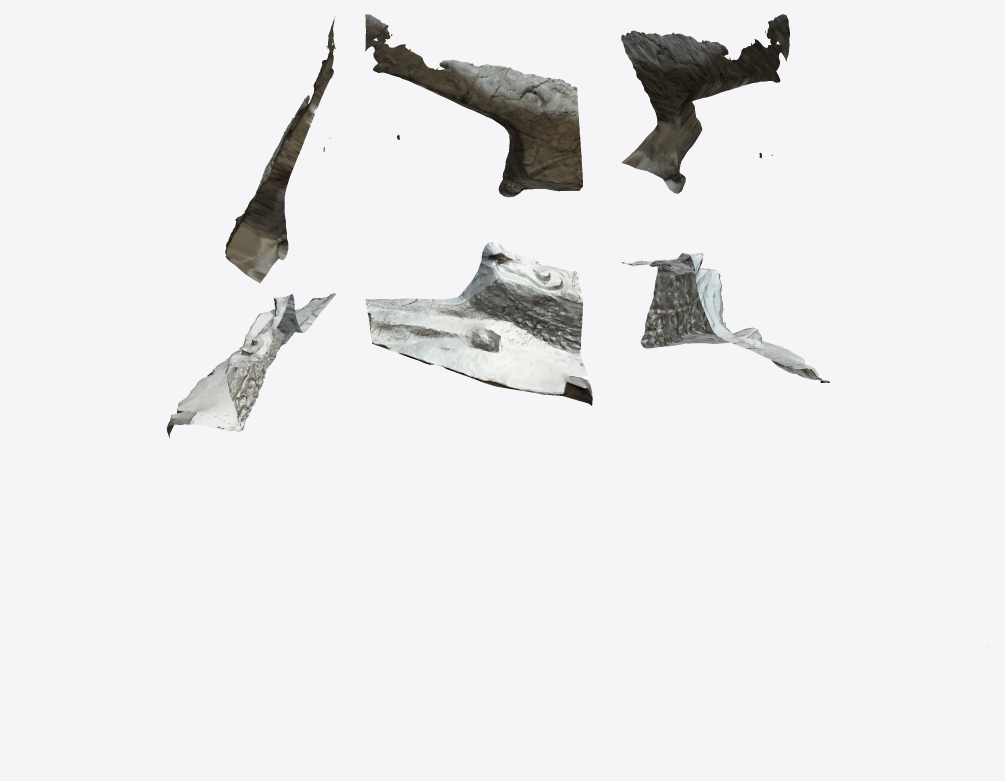
The model's file is tile_5_5.obj.
The picture shows the model from 3 angles, left to right: view 1: azimuth 30°, elevation 25°; view 2: azimuth 150°, elevation 25°; view 3: azimuth 270°, elevation 25°; orthographic projection. The views are drawn at different scales.
Parts seen in each view (by area): view 1: texture_0; view 2: texture_0; view 3: texture_0.
Part boxes in pixels (x1,y1,x2,y2): texture_0: (166,17,335,438); texture_0: (365,14,592,405); texture_0: (621,14,829,382).
Size of the model in its own units: 0.3359 by 0.8901 by 0.3515.
1 material, 1 textured.
